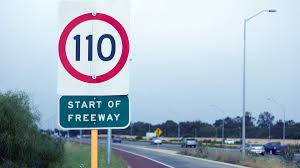Speed_limit_110km: (58, 12, 130, 84)
